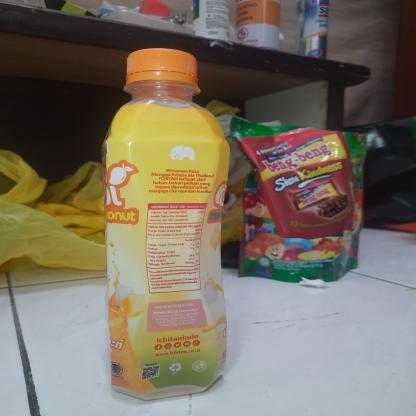plastic: (98, 42, 236, 402)
